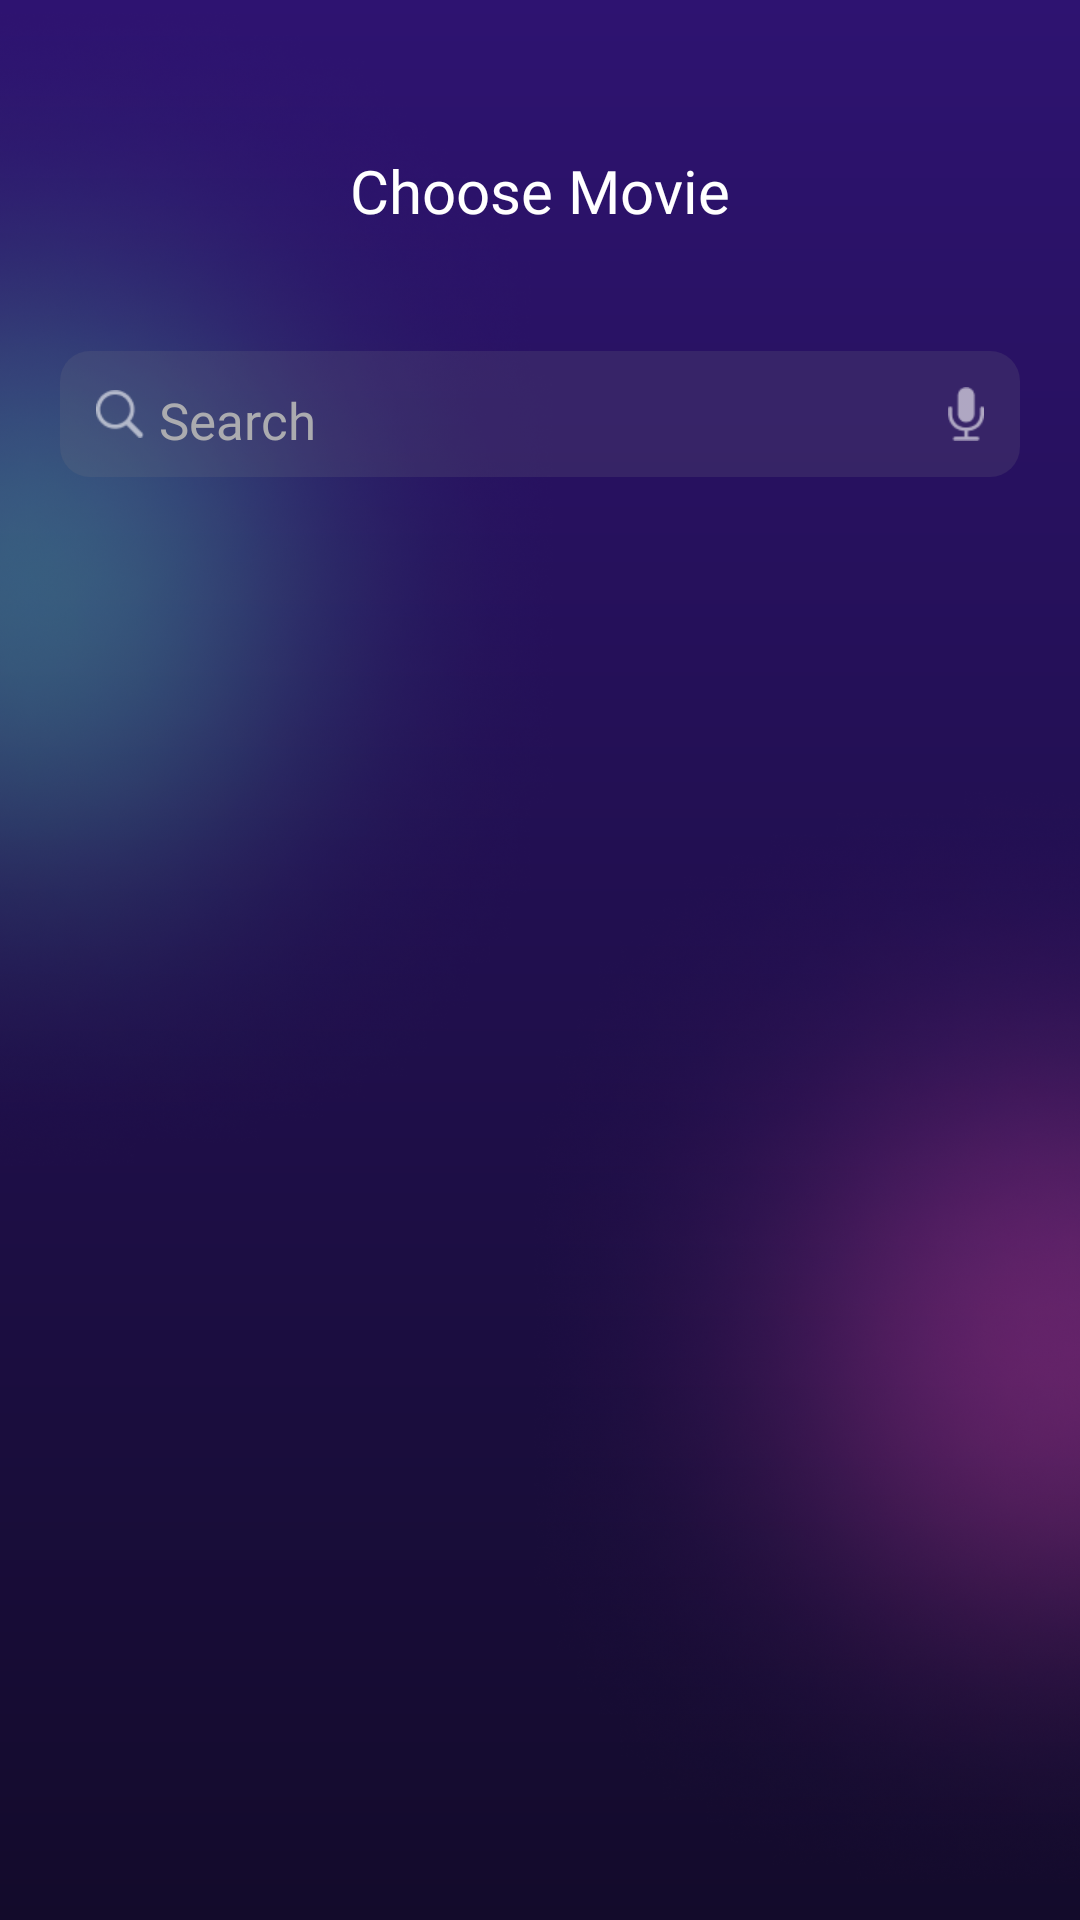

Locate icon controls on the screen. Image size 1080*1920, boxes as (x1, y1, x2, y2).
record: (948, 387, 984, 441)
